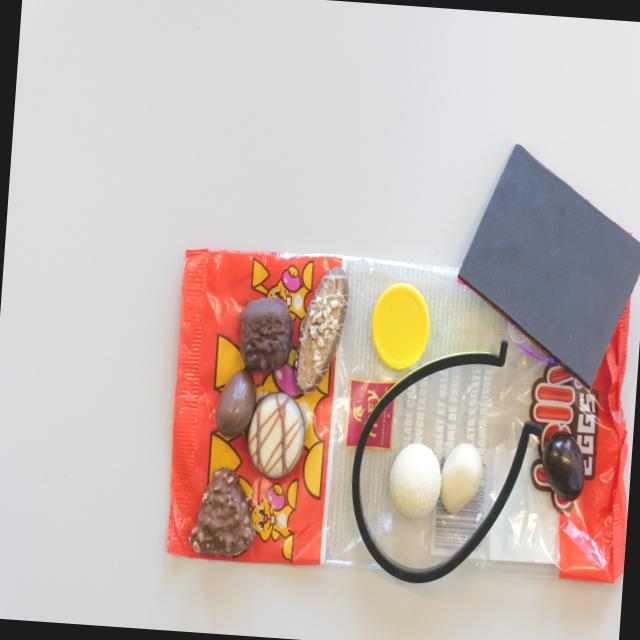Amandina: (293, 266, 350, 394)
Comtesse: (385, 440, 444, 518)
Creme_brulee: (246, 388, 306, 482)
Jelly_Black: (538, 429, 588, 502)
Jelly_Milk: (213, 368, 258, 438)
Jelly_White: (437, 438, 484, 514)
Tentation_noir: (236, 297, 293, 373)
Triangolo: (187, 463, 257, 558)
